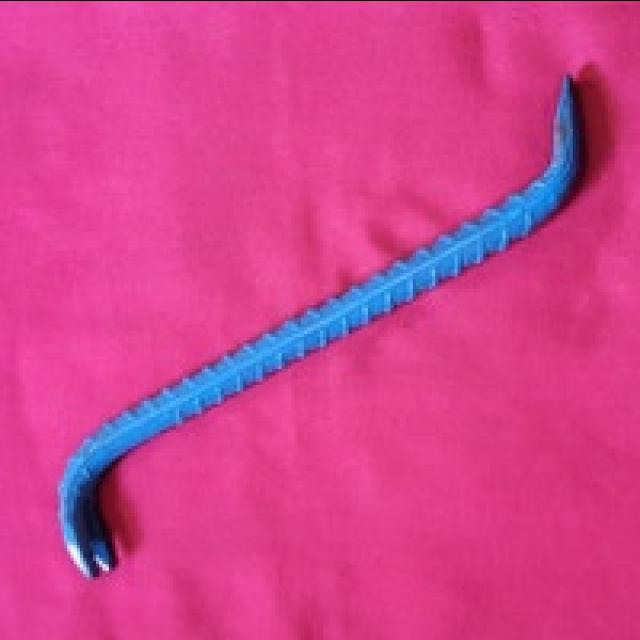Linggis: (55, 71, 585, 575)
